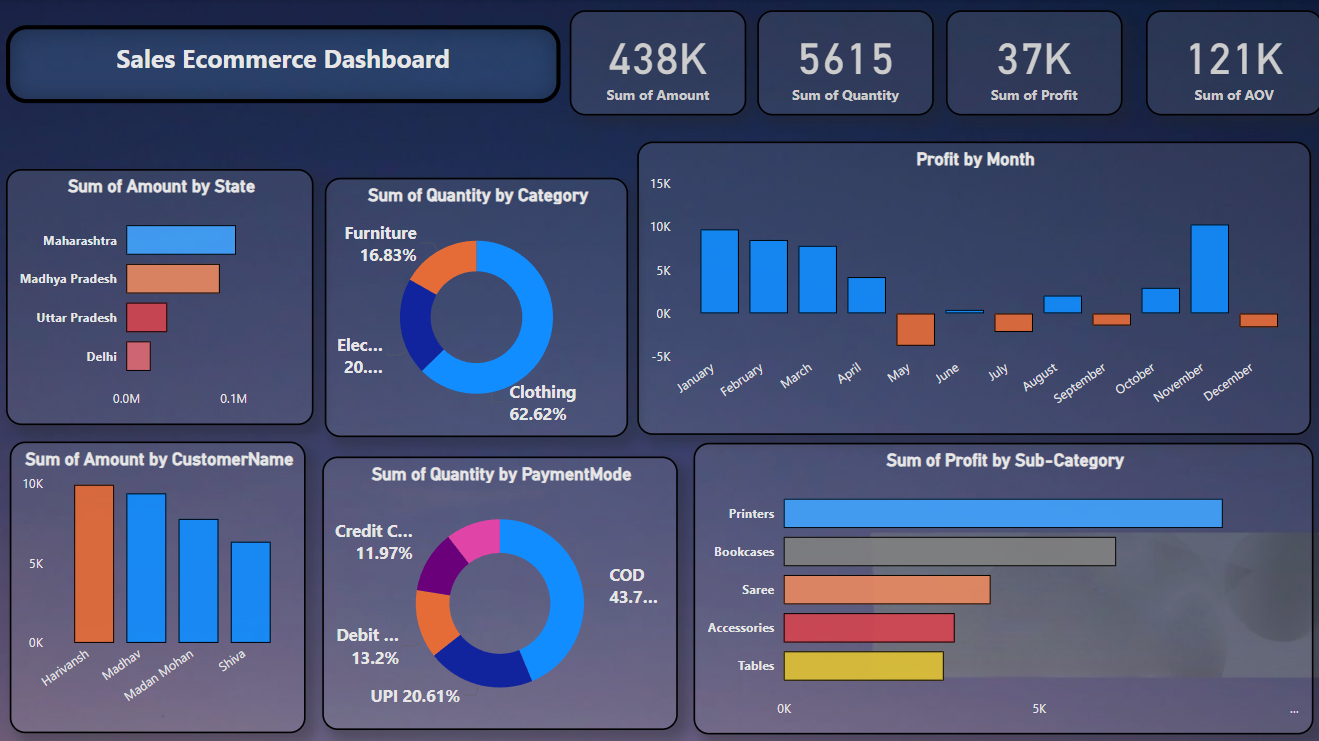

Layout of this report page (visuals, bound fields, positions):
{"tool":"powerbi","page":{"name":"Page 1","canvas":[1280,720],"ordinal":0},"visuals":[{"type":"textbox","box":[10,25,535,75],"z":0},{"type":"columnChart","title":"Profit by Month","fields":{"Category":["Orders.Order Date.Variation.Date Hierarchy.Month"],"Y":["Details.Profit"]},"box":[618.6,137.1,650,282.9],"z":1},{"type":"barChart","fields":{"Category":["Details.Sub-Category"],"Y":["Details.Profit"]},"box":[672.9,428.6,598.6,281.4],"z":2},{"type":"donutChart","fields":{"Category":["Details.Category"],"Y":["Details.Quantity"]},"box":[317.1,172.9,292.9,250],"z":3},{"type":"donutChart","fields":{"Y":["Details.Quantity"],"Category":["Details.PaymentMode"]},"box":[314.3,441.4,342.9,264.3],"z":4},{"type":"card","fields":{"Values":["Details.Amount"]},"box":[554.3,11.4,170,101.4],"z":5},{"type":"card","fields":{"Values":["Details.Profit"]},"box":[917.1,11.4,170,101.4],"z":6},{"type":"card","fields":{"Values":["Details.Quantity"]},"box":[734.3,11.4,170,101.4],"z":7},{"type":"card","fields":{"Values":["Details.avg_ord_v"]},"box":[1110,11.4,170,101.4],"z":8},{"type":"barChart","fields":{"Category":["Orders.State"],"Y":["Details.Amount"]},"box":[10,164.3,297.1,247.1],"z":9},{"type":"columnChart","fields":{"Category":["Orders.CustomerName"],"Y":["Details.Amount"]},"box":[12.9,427.1,285.7,281.4],"z":10}]}

Visuals, with their boxes in screenshot pixels (x1, y1, x2, y2), scaled from the page's 1280x720 canvas onto the 1319x741 screenshot:
textbox: x1=10, y1=26, x2=562, y2=103
"Profit by Month" columnChart: x1=637, y1=141, x2=1307, y2=432
barChart - Details.Sub-Category x Details.Profit: x1=693, y1=441, x2=1310, y2=731
donutChart - Details.Category x Details.Quantity: x1=327, y1=178, x2=629, y2=435
donutChart - Details.Quantity x Details.PaymentMode: x1=324, y1=454, x2=677, y2=726
card - Details.Amount: x1=571, y1=12, x2=746, y2=116
card - Details.Profit: x1=945, y1=12, x2=1120, y2=116
card - Details.Quantity: x1=757, y1=12, x2=932, y2=116
card - Details.avg_ord_v: x1=1144, y1=12, x2=1318, y2=116
barChart - Orders.State x Details.Amount: x1=10, y1=169, x2=316, y2=423
columnChart - Orders.CustomerName x Details.Amount: x1=13, y1=440, x2=308, y2=729
